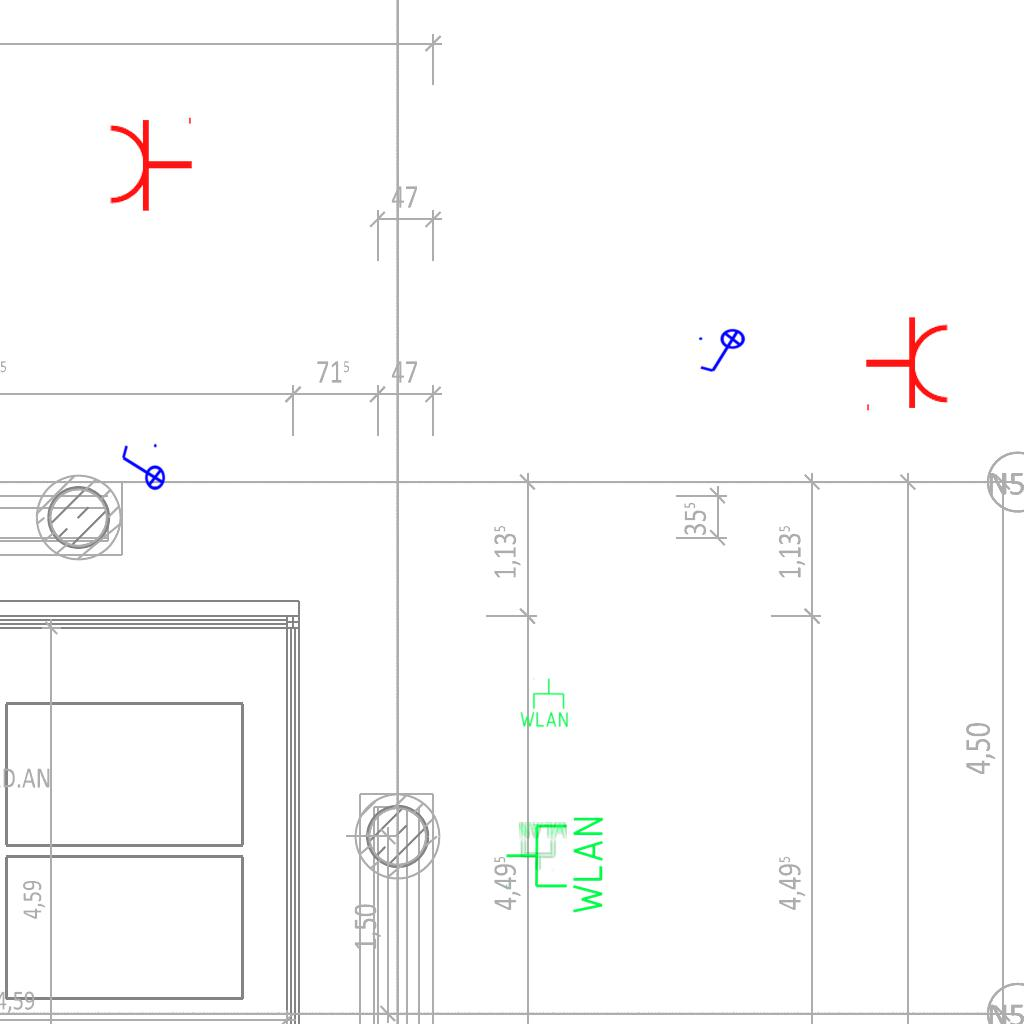Ausschalter_beleuchtet: (696, 328, 752, 376), (118, 441, 166, 497)
Schukosteckdose_einfach: (107, 113, 194, 213), (864, 315, 951, 415)
WLAN: (503, 813, 607, 918), (518, 677, 570, 729), (517, 820, 569, 872)
